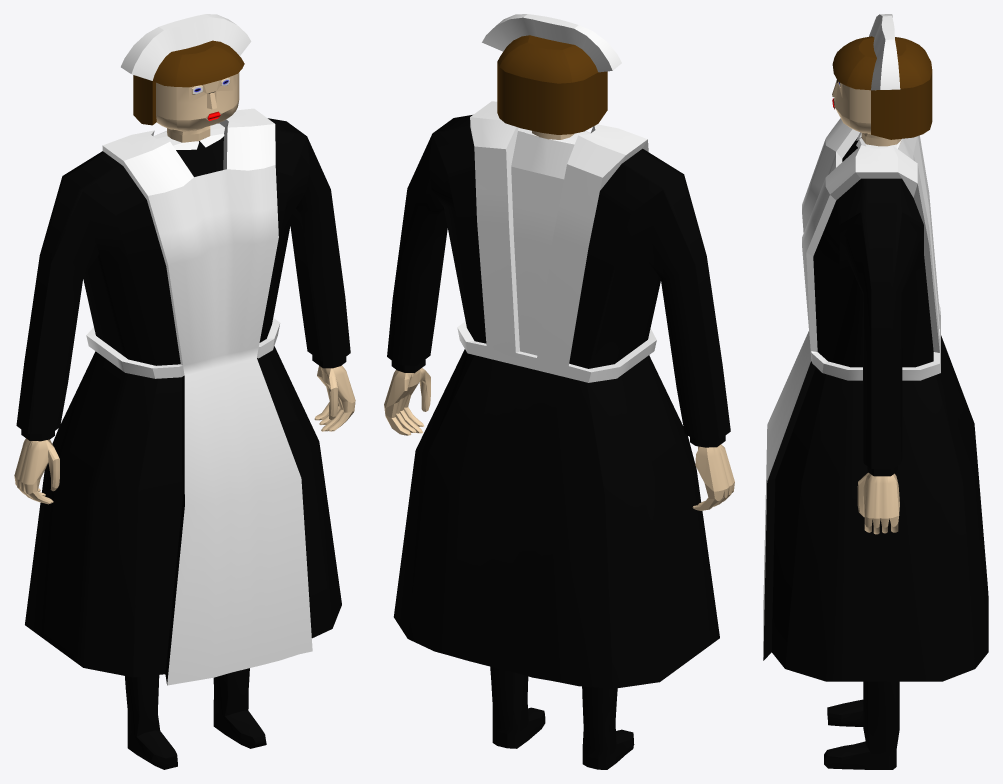
File: turret.fbx
The picture shows the model from 3 angles, left to right: view 1: azimuth 30°, elevation 25°; view 2: azimuth 150°, elevation 25°; view 3: azimuth 270°, elevation 25°; orthographic projection. The views are drawn at different scales.
Parts seen in each view (by area): view 1: pCube3; view 2: pCube3; view 3: pCube3.
Boxes of the visible parts, box(x1,y1,x2,y2) form: pCube3: box(14, 14, 355, 769); pCube3: box(384, 14, 734, 769); pCube3: box(763, 14, 988, 769).
Size of the model in its own units: 5.27 by 10.82 by 3.08.
